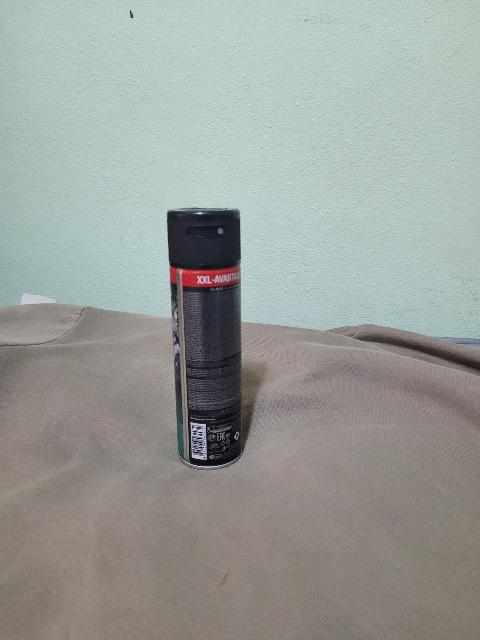Metal: (165, 263, 248, 466)
Plastik: (163, 200, 253, 270)
